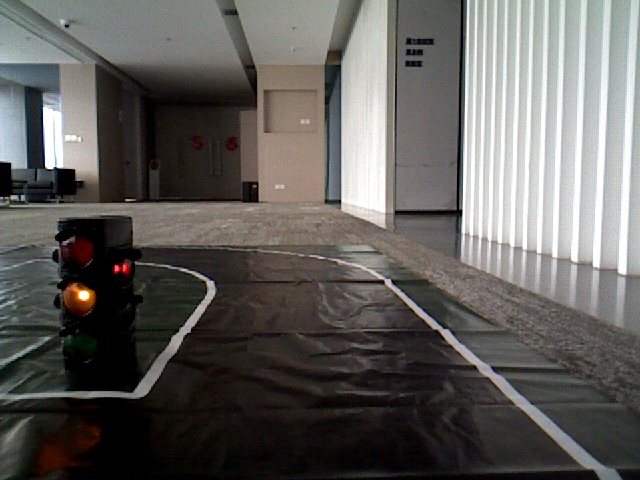yellow: (58, 220, 111, 355)
